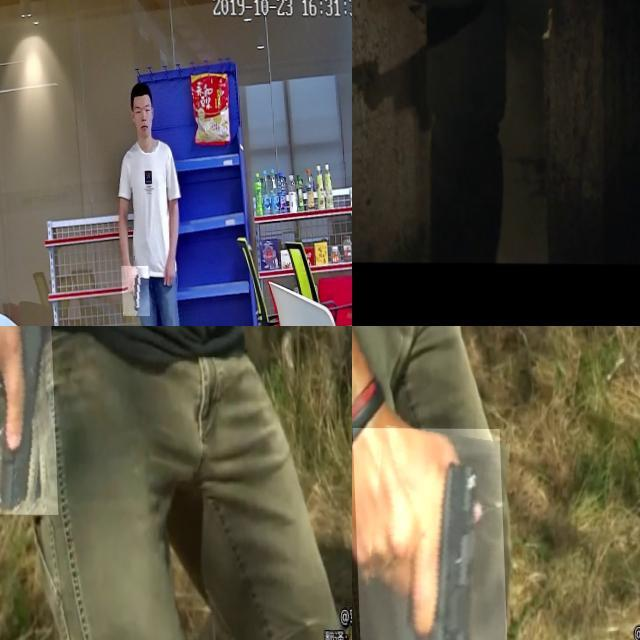gun-knife-thesis - v11 Yolov5 augmented: (352, 427, 506, 640), (0, 326, 55, 514), (120, 266, 148, 316), (352, 0, 375, 37), (352, 0, 375, 30)
